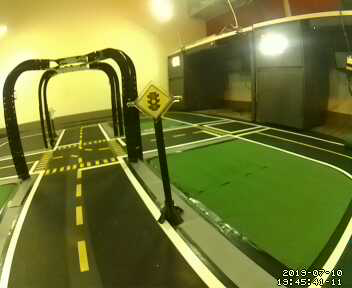Traffic light sign: (136, 83, 173, 116)
